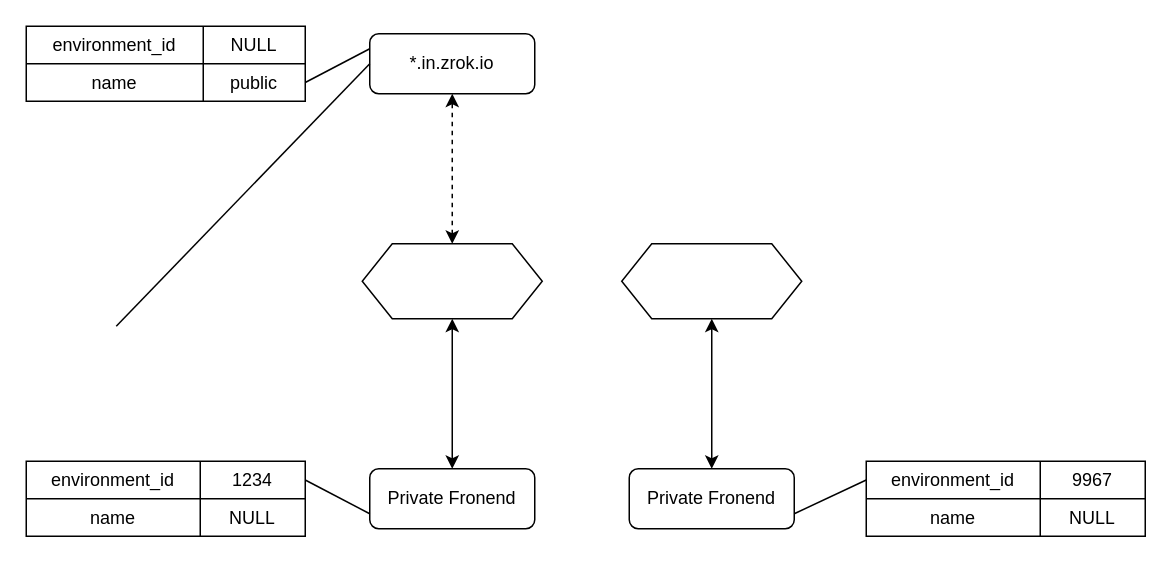
The diagram is 1172 pixels wide and 563 high, and some of its shapes have lost their labels. The centre of each missing label's shape, as x and y in pixels:
"Environment" goes at (x=451, y=280).
"Ephemeral Environment" goes at (x=711, y=280).
